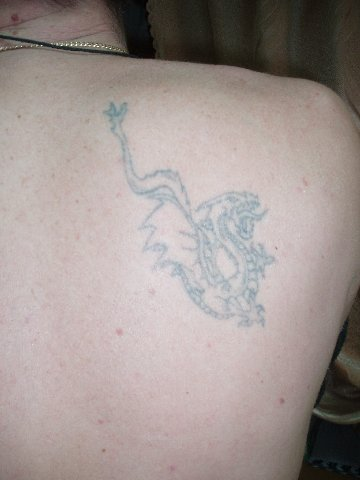tatu6_drakon: (81, 88, 310, 343)
